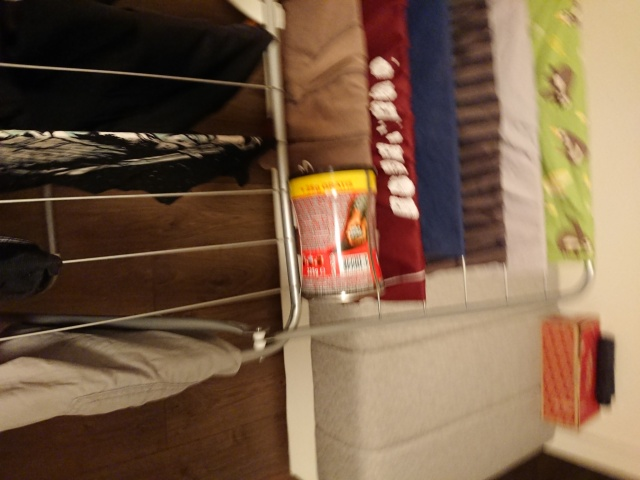Nescafe Classic 225g: (284, 164, 388, 307)
